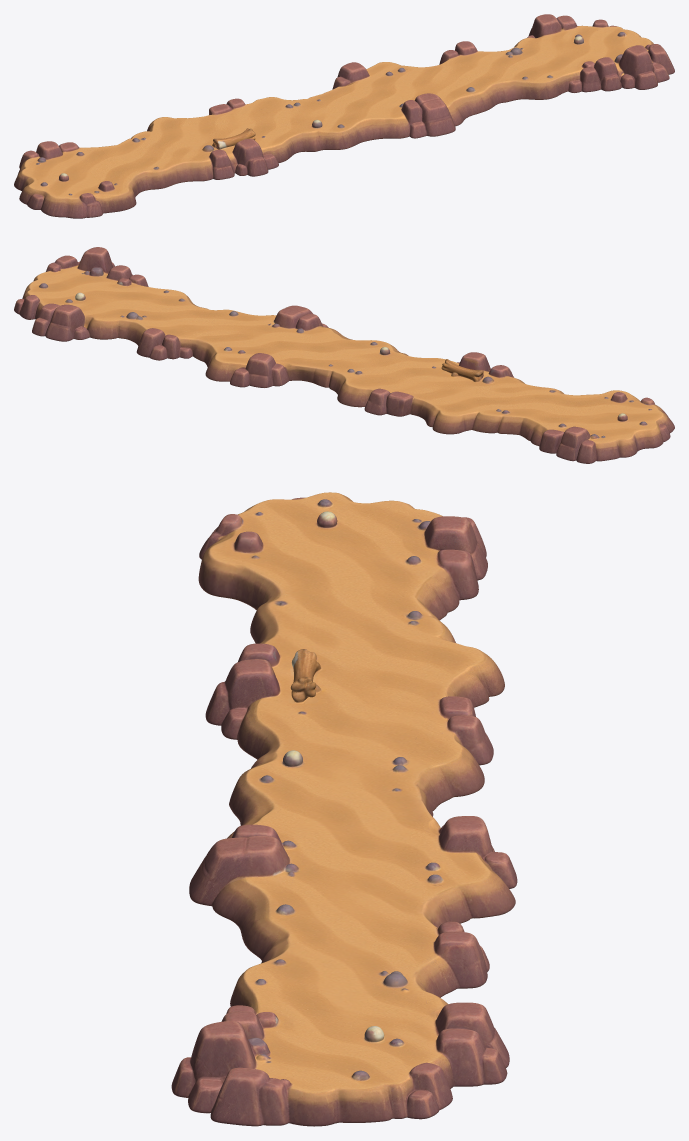
Rendered from sandy-jetti.glb.
The picture shows the model from 3 angles, top to bottom: view 1: azimuth 30°, elevation 25°; view 2: azimuth 150°, elevation 25°; view 3: azimuth 270°, elevation 25°; orthographic projection. The views are drawn at different scales.
Size of the model in its own units: 1.9 by 0.0884 by 0.4534.
1 material, 1 textured.
